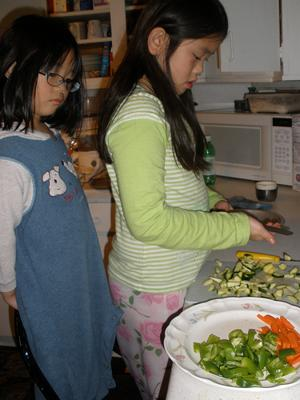person: (98, 3, 276, 400)
